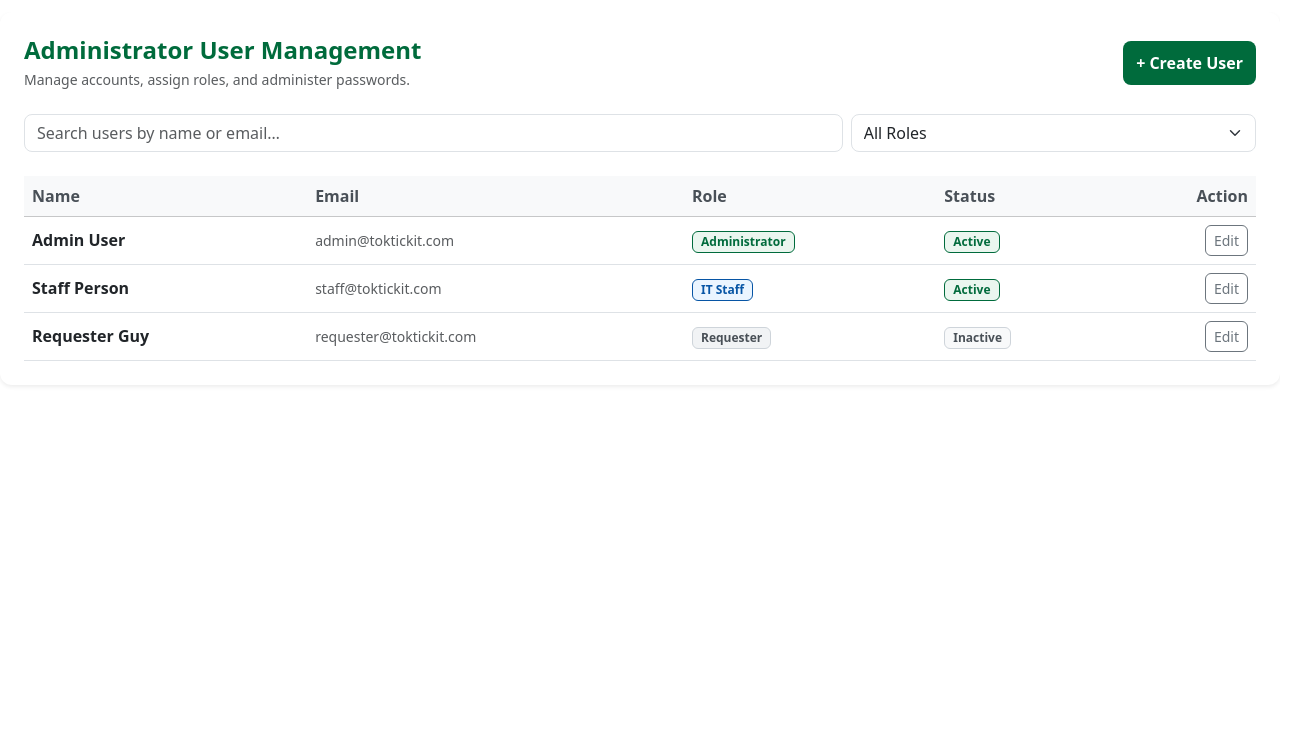
UserManagement Component (Lab 3) › Edit User Panel & Business Rules › resets password using 'Set New Password' and displays confirmation toast (API-18, FR-28)
The image size is (1292, 732).
Expected: the text "Staff Person" is shown, 24,264 -> 307,312
Click the button with test id "edit-user-usr_staff_01": {"x": 1226, "y": 288} 1205,273 -> 1248,304
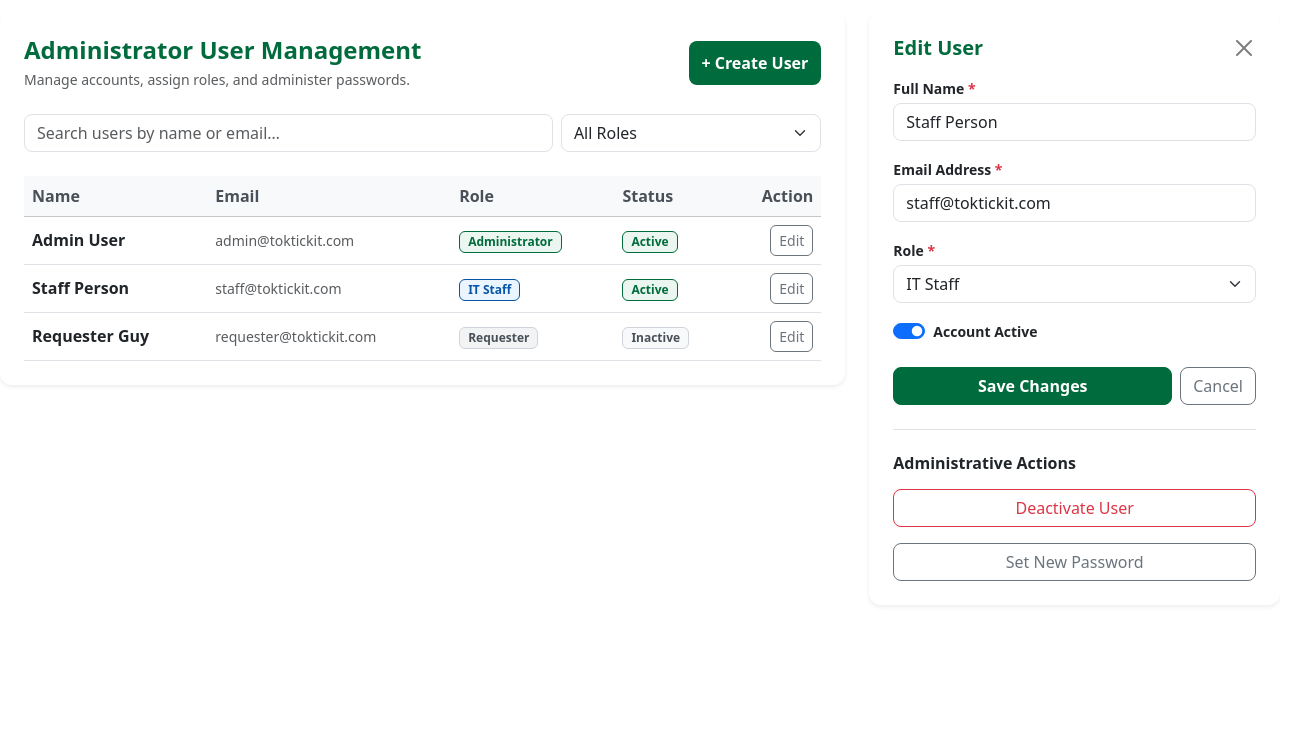
Expected: the button with test id "open-reset-password-btn" is shown
Click the button with test id "open-reset-password-btn": {"x": 1075, "y": 562} 893,543 -> 1256,581
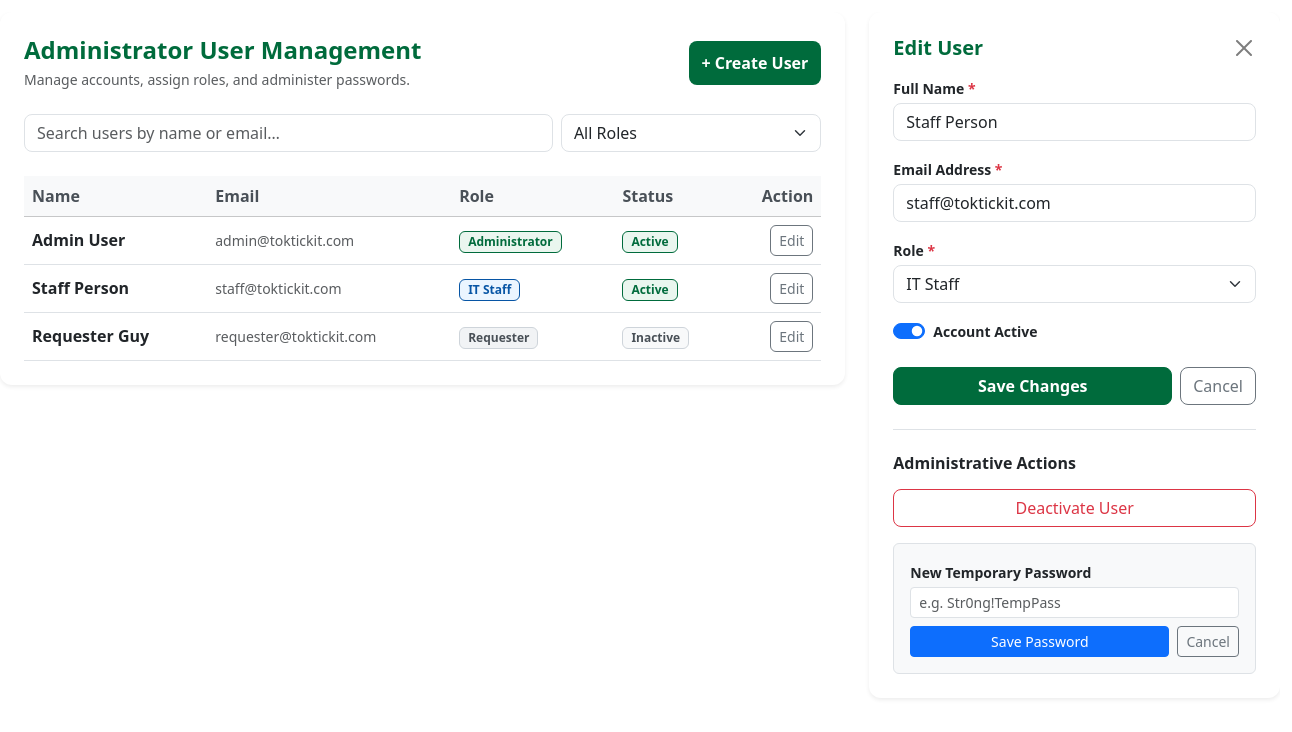
In the password field with test id "new-password-input": {"x": 1075, "y": 603} 910,587 -> 1239,618, type "Fresh!Start123"
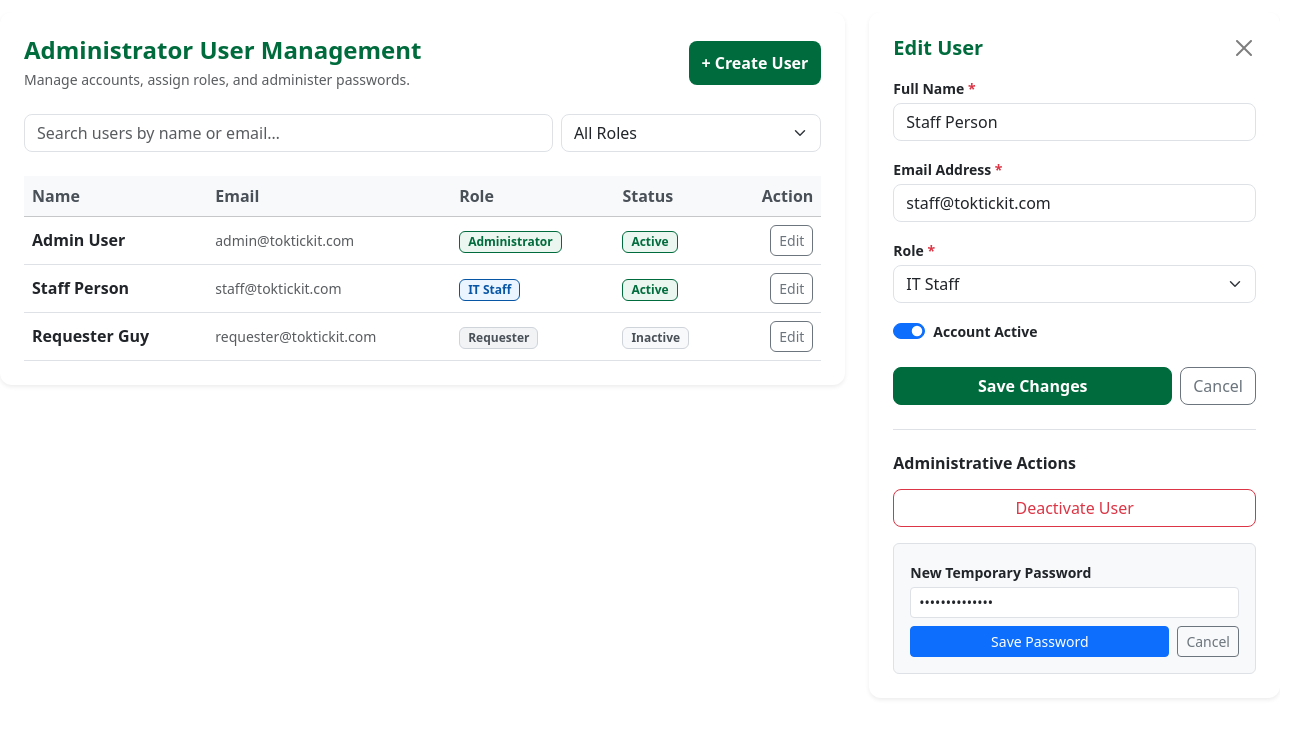
Click the button with test id "submit-reset-password-btn": {"x": 1040, "y": 642} 910,626 -> 1169,657
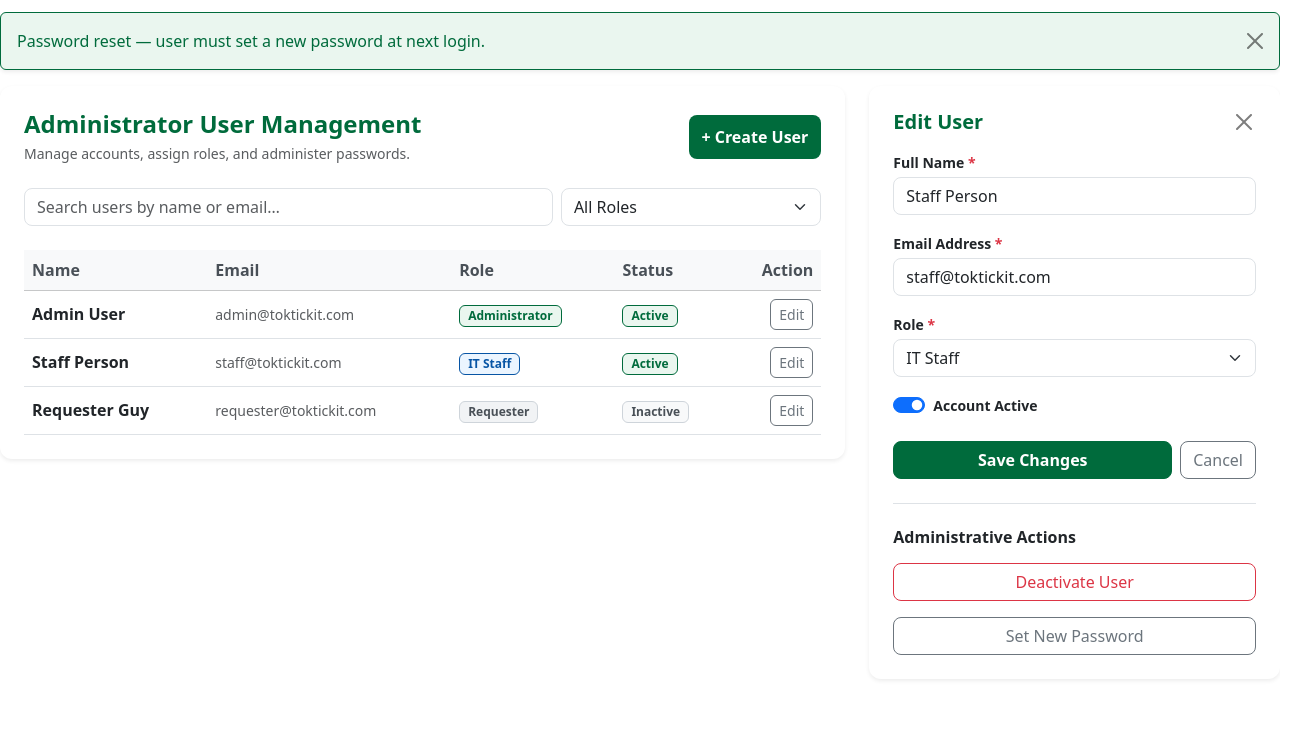
Expected: the text "Password reset — user must set a new password at next login." is shown, 17,29 -> 485,53
